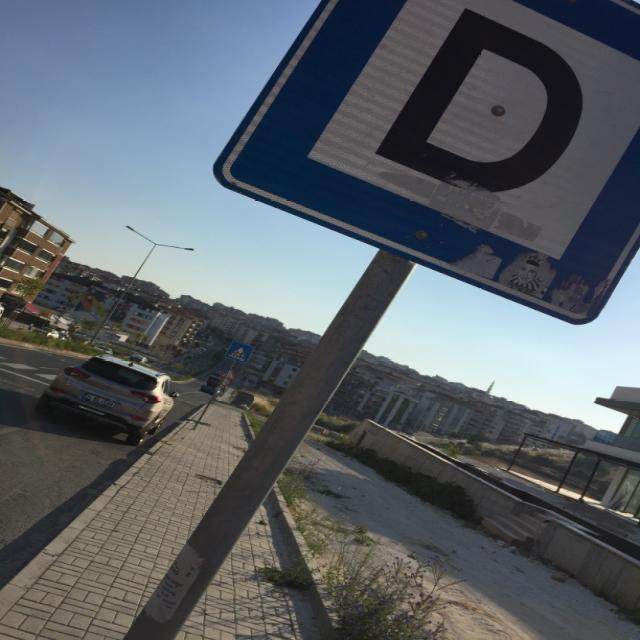durak: (211, 1, 640, 328)
